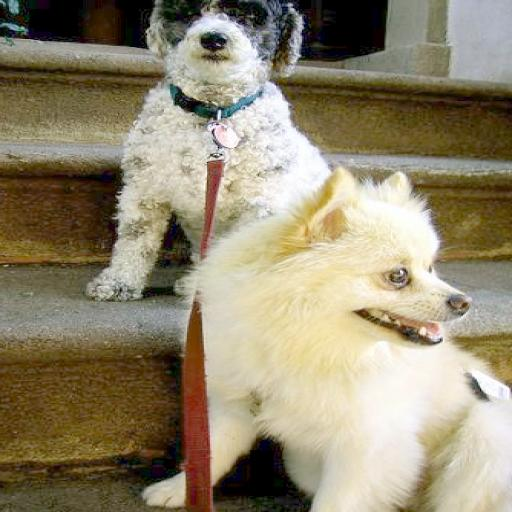dog_face: (302, 169, 472, 353), (144, 0, 302, 85)
